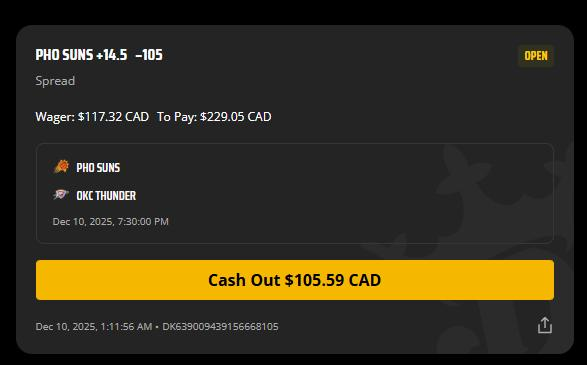game: (76, 161, 137, 204)
odds: (135, 47, 164, 63)
payout: (200, 109, 245, 125)
wager: (76, 110, 124, 125)
